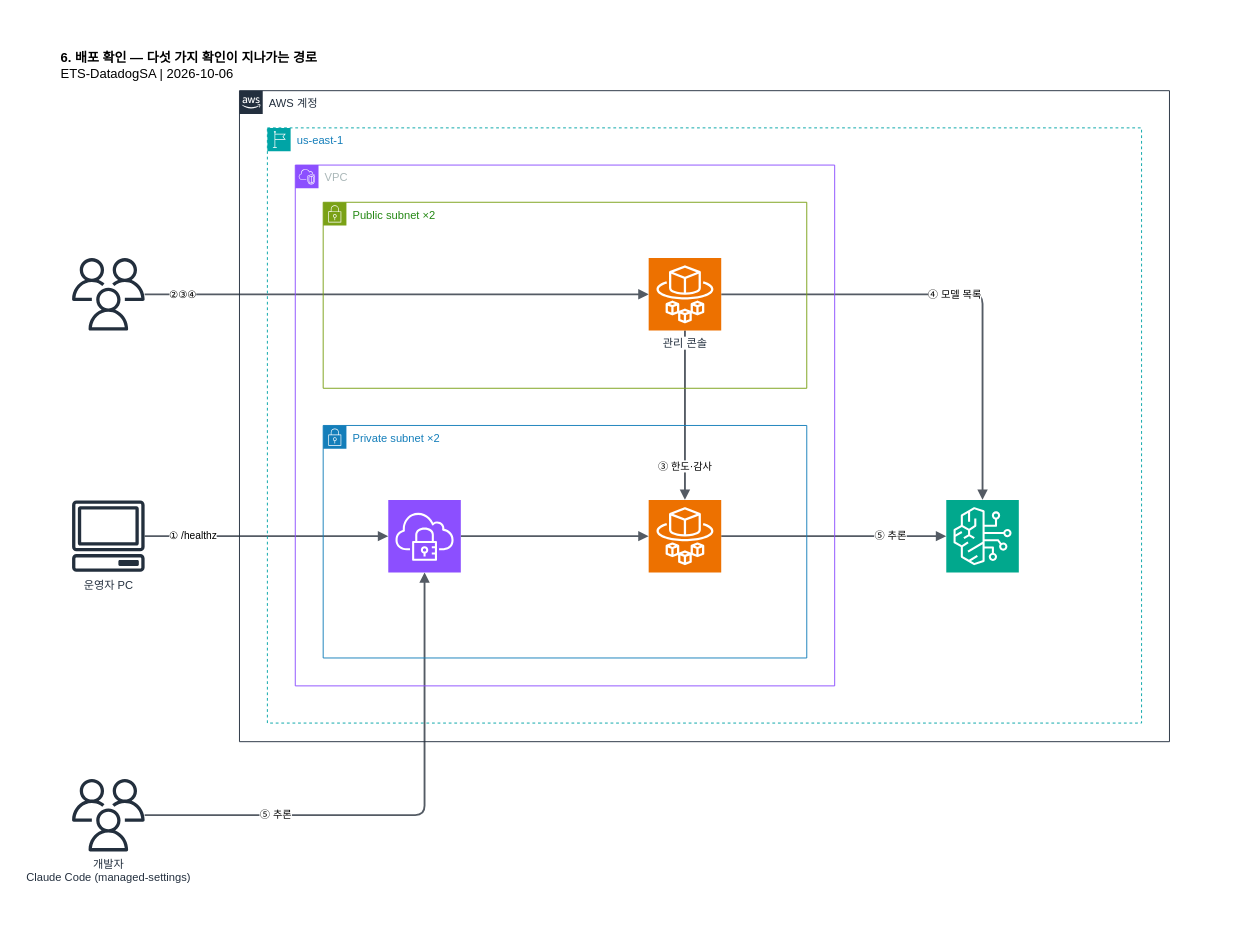
Some shapes in this 1241 by 943 pixel diagram are drawn without their labels. The centre of each missing label's shape, as x and y in pixels:
"Amazon Bedrock" belongs at pixel 982 535.
"Client VPN" belongs at pixel 424 535.
"게이트웨이" belongs at pixel 684 535.
"관리자 브라우저 (VPN 연결 상태)" belongs at pixel 108 294.
